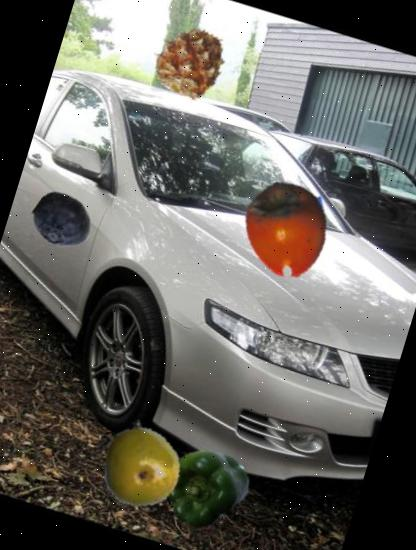Blueberry: (25, 182, 101, 258)
Kaki: (227, 169, 349, 290)
Maracuja: (87, 412, 193, 518)
Pepper: (152, 434, 259, 541)
Pineapple: (145, 15, 237, 106)
